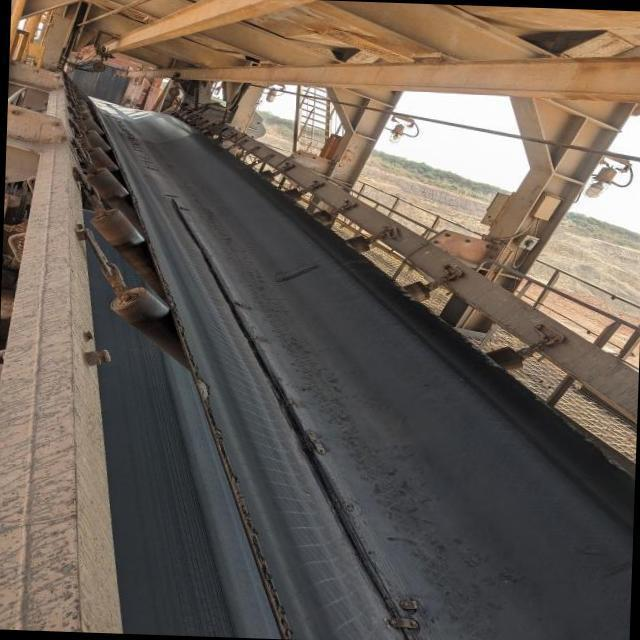Tear: (166, 192, 414, 640)
